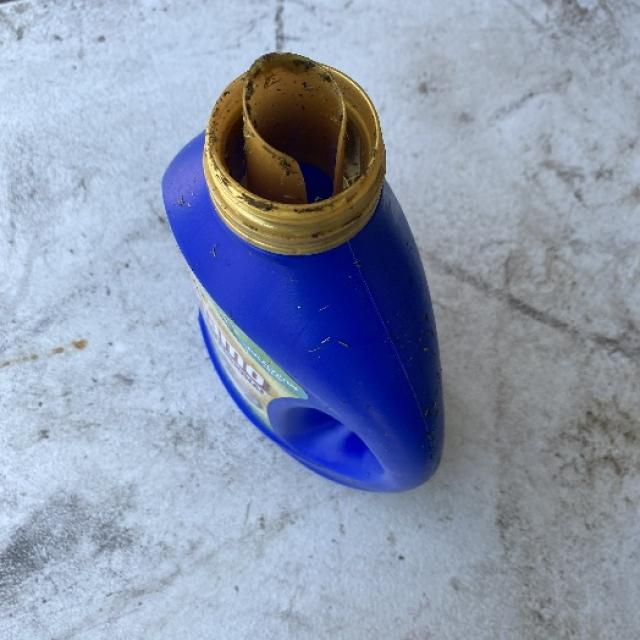plastic: (160, 50, 446, 492)
